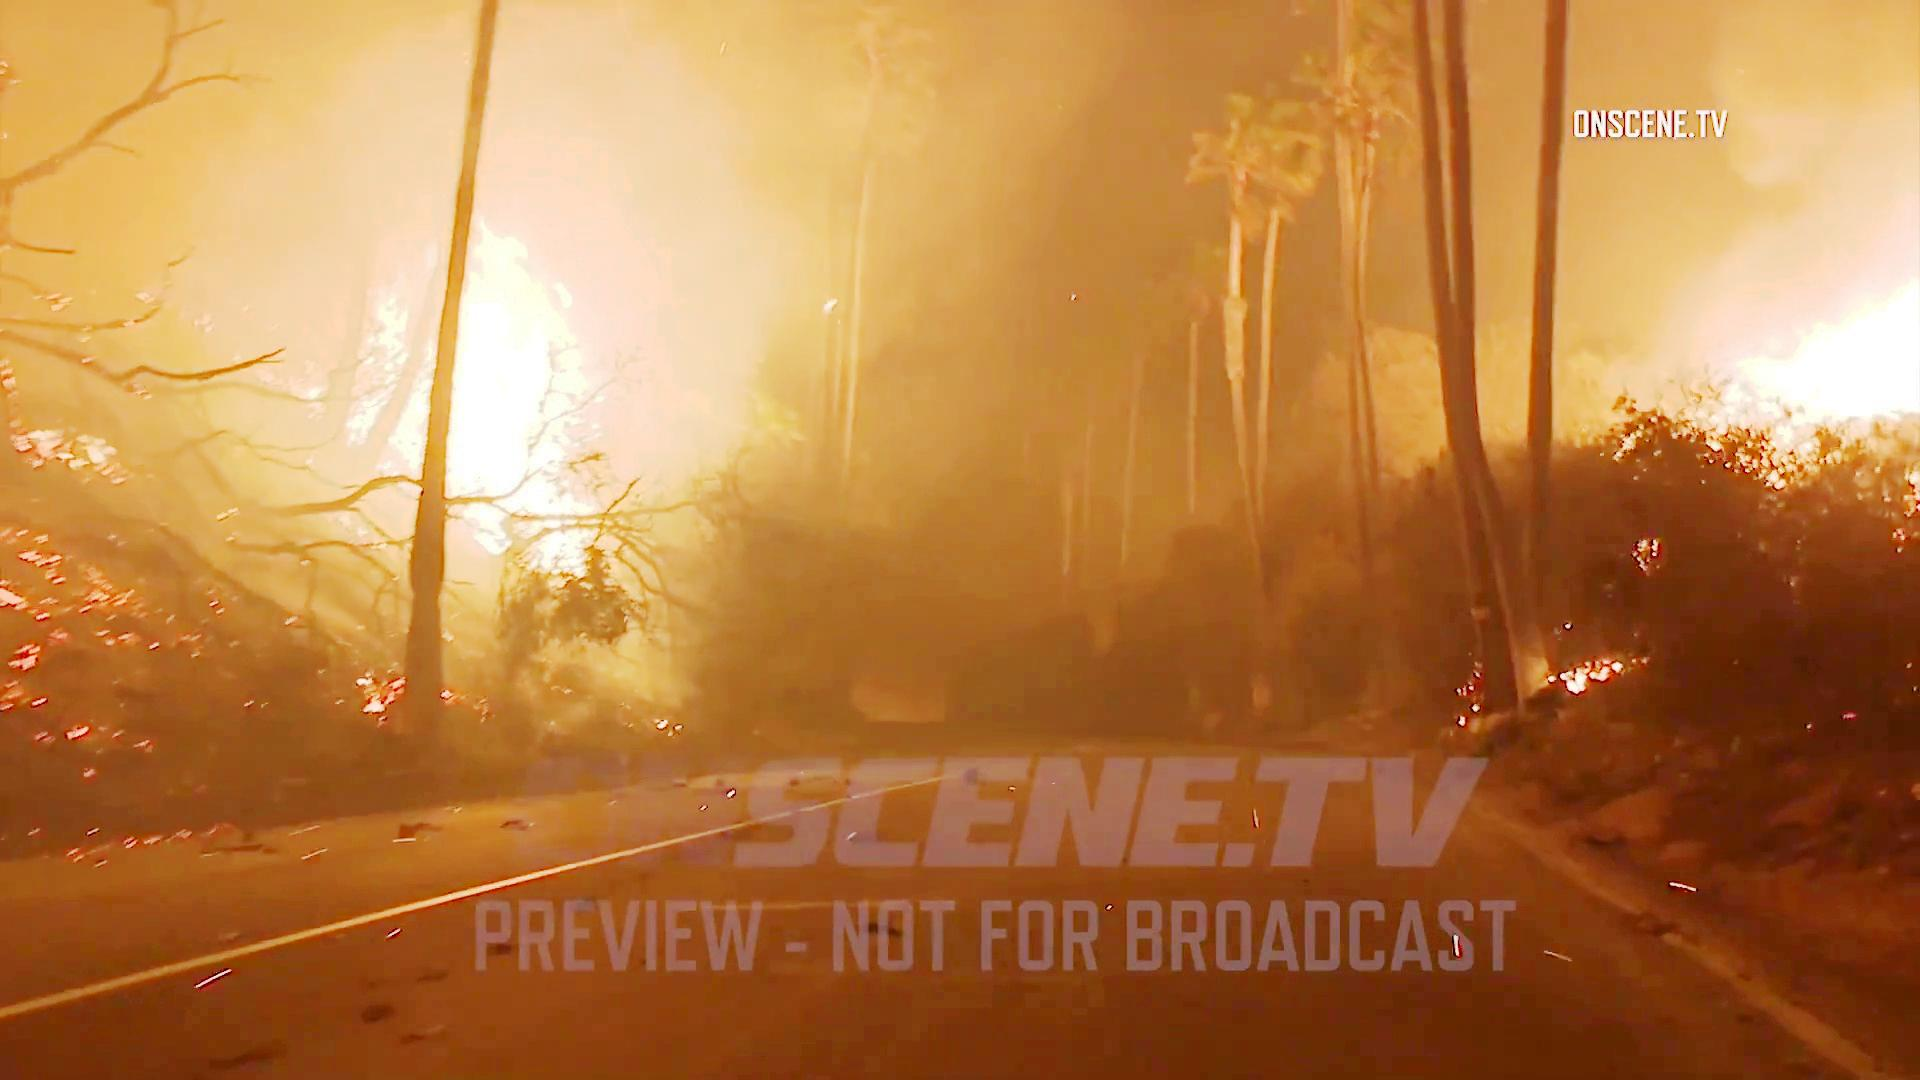fire: (356, 214, 599, 560), (1738, 253, 1920, 440)
